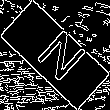N_SW: (24, 23, 86, 87)
